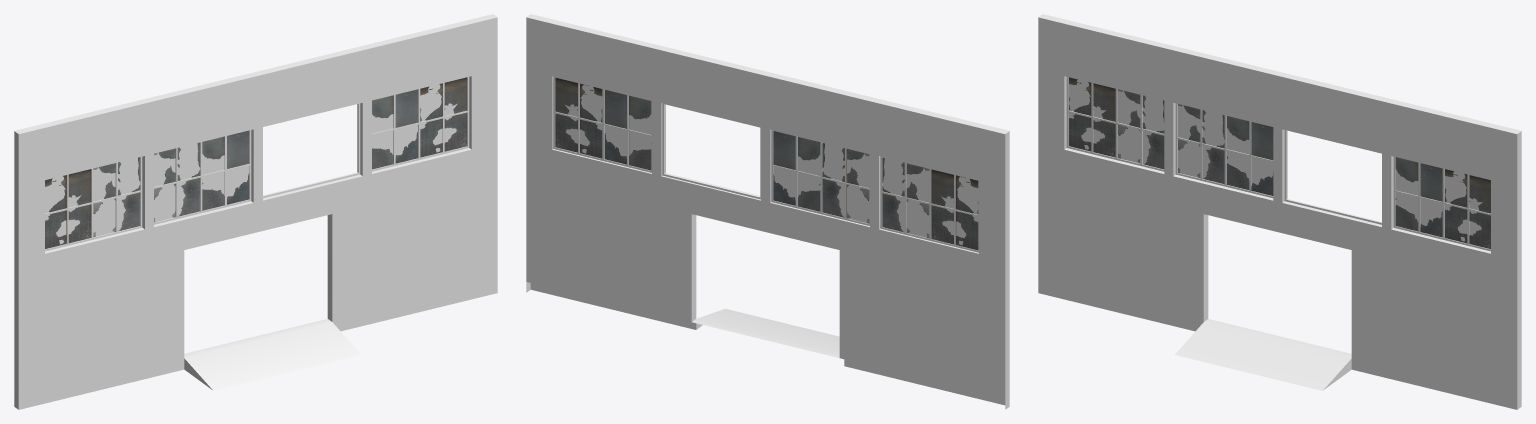
Rendered from BrokenWindowFactoryWallMesh.fbx.
3 renders of one model, left to right at view 1: azimuth 30°, elevation 25°; view 2: azimuth 150°, elevation 25°; view 3: azimuth 330°, elevation 25°, orthographic.
Visible parts, largest first — view 1: Factory1Wall01, Factory1Wall01Glass; view 2: Factory1Wall01, Factory1Wall01Glass; view 3: Factory1Wall01, Factory1Wall01Glass.
Part boxes in pixels (x1,y1,x2,y2): Factory1Wall01: (14,14,497,409); Factory1Wall01Glass: (45,77,467,248); Factory1Wall01: (526,14,1009,409); Factory1Wall01Glass: (555,77,978,250); Factory1Wall01: (1038,14,1521,409); Factory1Wall01Glass: (1069,77,1490,249).
Size of the model in its own units: 1800 by 990 by 220.
